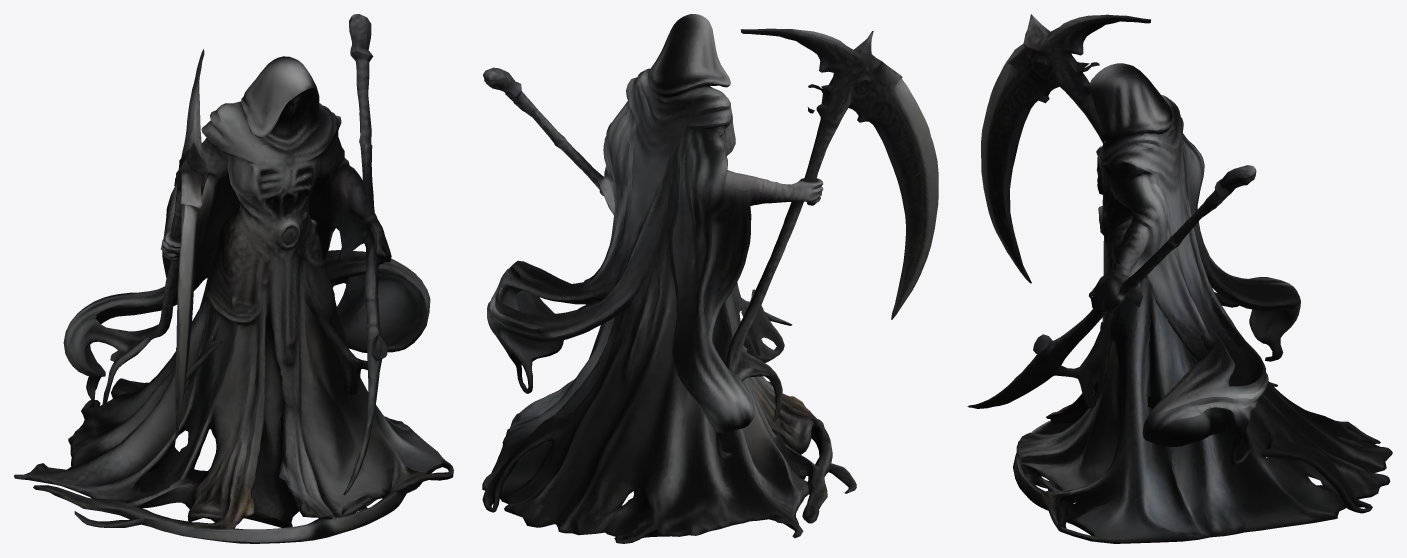
Rendered from capuz-ceifador.glb.
The picture shows the model from 3 angles, left to right: view 1: azimuth 30°, elevation 25°; view 2: azimuth 150°, elevation 25°; view 3: azimuth 270°, elevation 25°; orthographic projection. The views are drawn at different scales.
Visible parts, largest first — view 1: capuz-ceifador; view 2: capuz-ceifador; view 3: capuz-ceifador.
Part boxes in pixels (left/top/right/bottom): capuz-ceifador: left=14, top=14, right=453, bottom=543; capuz-ceifador: left=482, top=14, right=938, bottom=543; capuz-ceifador: left=967, top=14, right=1392, bottom=543.
Bounding box in the file's own units: 4.98 × 6 × 5.45.
1 material, 1 textured.
